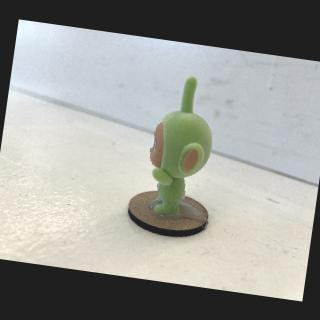teletubby: (149, 77, 212, 214)
